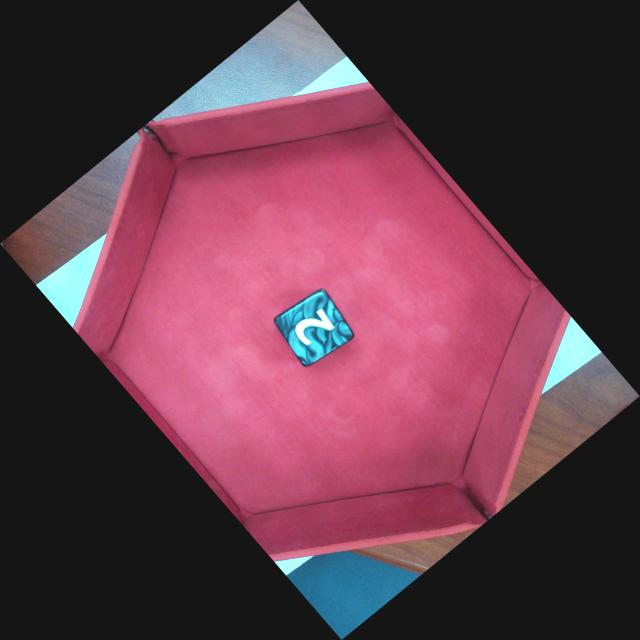dice: (272, 291, 355, 369)
